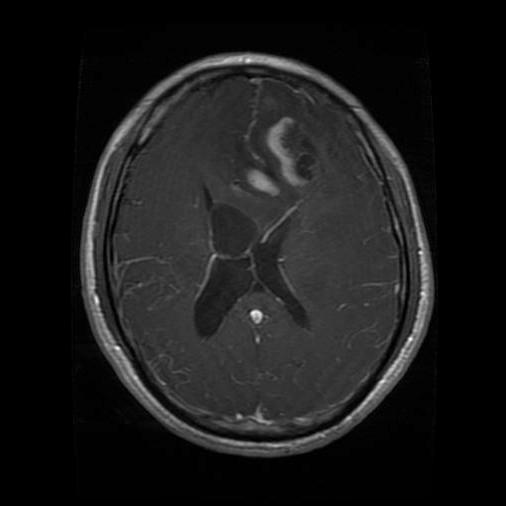Tumour-Glioma: (225, 119, 325, 205)
